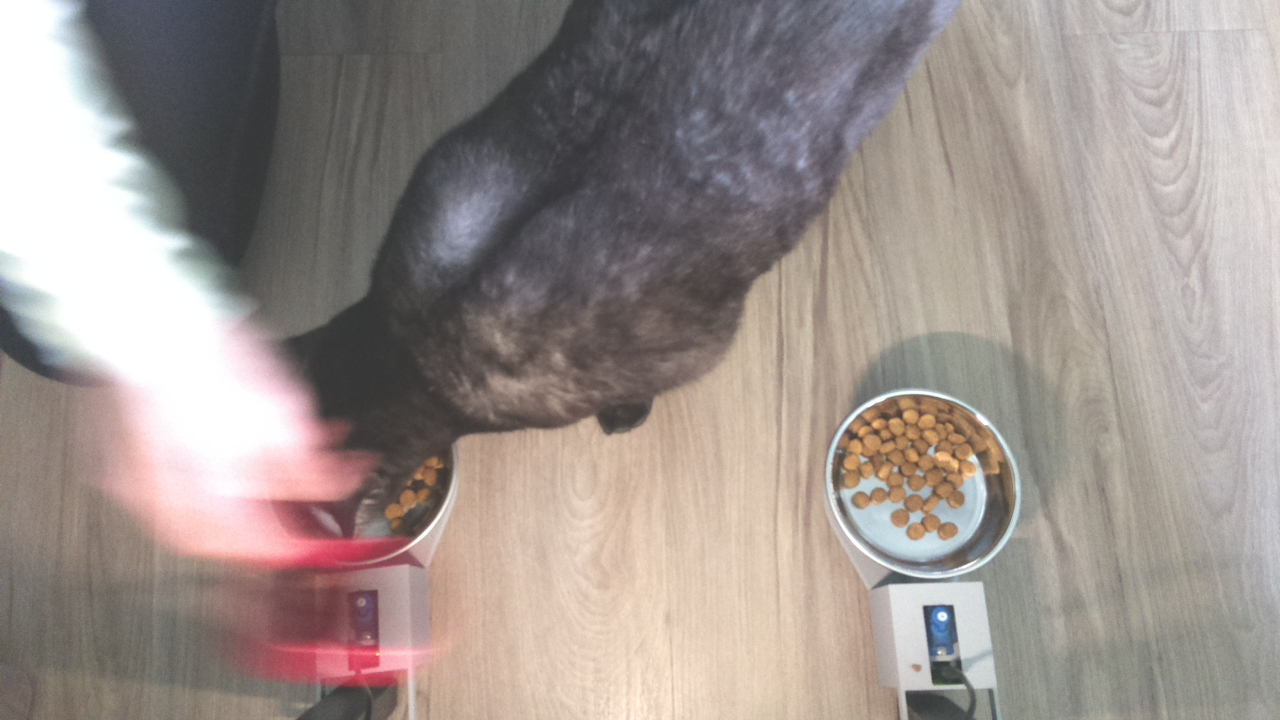open_bowl: (823, 383, 1028, 582)
